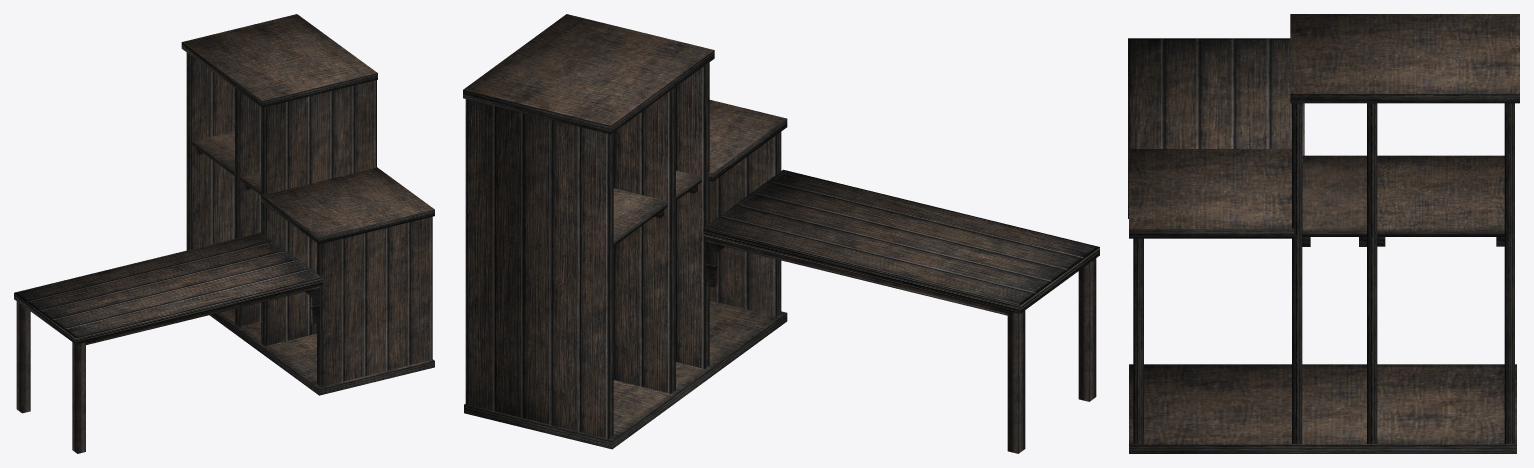
The model's file is GS_VOB_TABLESHELVES_BLACK_01_KOZA.glb.
3 views of the same model, side by side, from view 1: azimuth 30°, elevation 25°; view 2: azimuth 150°, elevation 25°; view 3: azimuth 270°, elevation 25° (orthographic). The views are drawn at different scales.
Parts seen in each view (by area): view 1: Mesh; view 2: Mesh; view 3: Mesh.
Boxes of the visible parts, box(x1,y1,x2,y2) form: Mesh: box(14, 14, 434, 453); Mesh: box(463, 14, 1099, 453); Mesh: box(1128, 14, 1519, 453).
Size of the model in its own units: 2.72 by 1.83 by 1.81.
3 materials, 3 textured.
